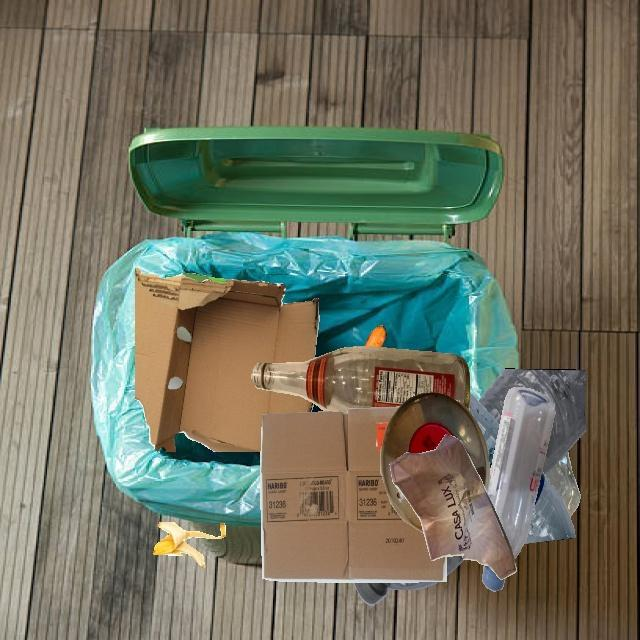biowaste: (153, 522, 226, 568), (364, 325, 387, 347)
cardboard: (135, 268, 319, 452), (260, 406, 446, 583)
glass: (251, 346, 470, 413)
paper: (390, 434, 517, 580)
plastic: (394, 418, 497, 582), (380, 392, 490, 534), (487, 387, 555, 560), (478, 368, 586, 475), (523, 471, 576, 544), (469, 393, 500, 474), (544, 451, 581, 517), (468, 404, 470, 412)
